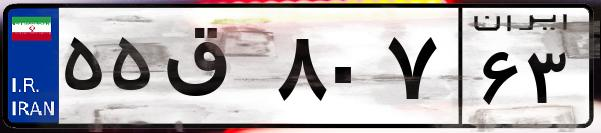0: (330, 28, 385, 110)
3: (525, 38, 570, 115)
5: (57, 26, 110, 100), (110, 28, 158, 98)
6: (475, 38, 525, 113)
7: (385, 28, 445, 110)
8: (270, 28, 330, 110)
ق: (158, 20, 270, 120)
